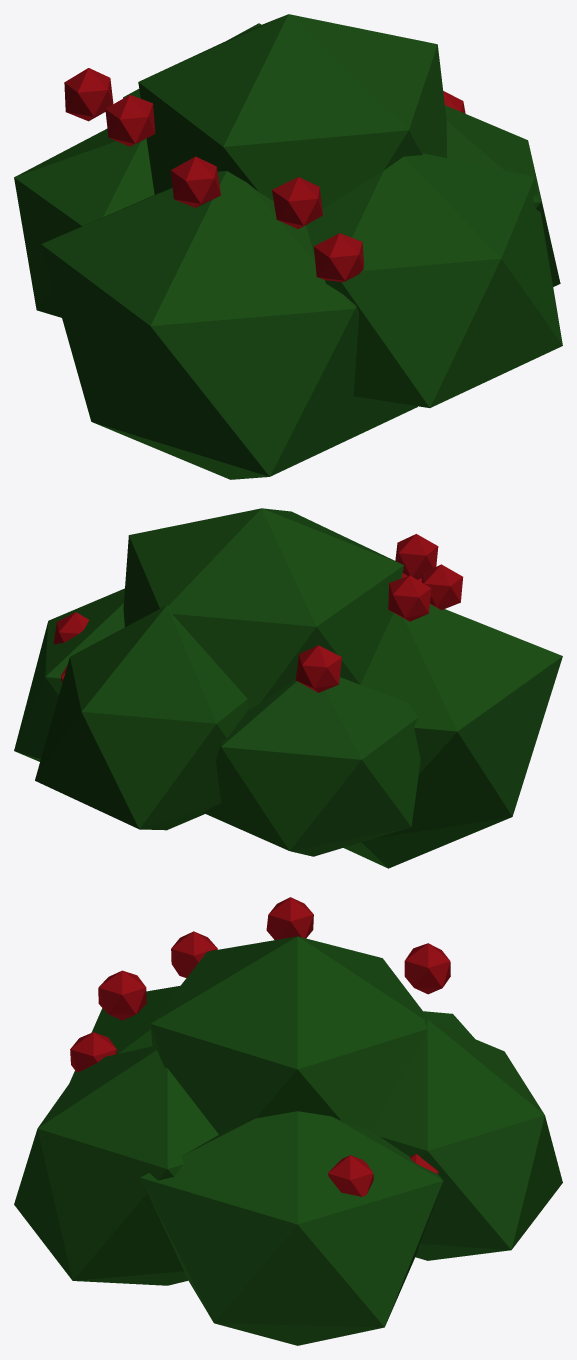
The model's file is bush.obj.
3 renders of one model, top to bottom at view 1: azimuth 30°, elevation 25°; view 2: azimuth 150°, elevation 25°; view 3: azimuth 270°, elevation 25°, orthographic. The views are drawn at different scales.
Visible parts, largest first — view 1: Leaves.001, Berries; view 2: Leaves.001, Berries; view 3: Leaves.001, Berries.
Part boxes in pixels (x1,y1,x2,y2): Leaves.001: (14,14,562,479); Berries: (64,68,465,282); Leaves.001: (14,508,562,868); Berries: (53,534,463,692); Leaves.001: (14,936,562,1345); Berries: (70,897,450,1196).
Bounding box in the file's own units: 4.25 × 3.49 × 4.42.
